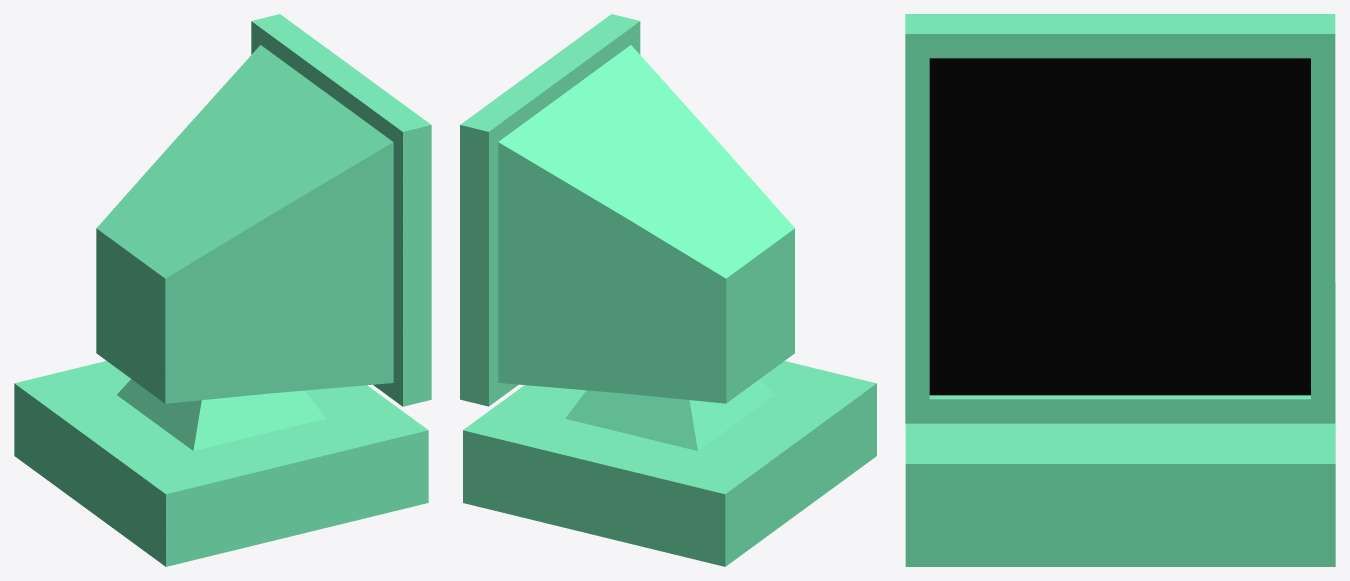
File: Com_Monter.obj
3 renders of one model, left to right at view 1: azimuth 30°, elevation 25°; view 2: azimuth 150°, elevation 25°; view 3: azimuth 270°, elevation 25°, orthographic. The views are drawn at different scales.
Visible parts, largest first — view 1: Com_Montor_Cube.048; view 2: Com_Montor_Cube.048; view 3: Com_Montor_Cube.048.
Part boxes in pixels (x1,y1,x2,y2): Com_Montor_Cube.048: (14,14,431,566); Com_Montor_Cube.048: (460,14,876,566); Com_Montor_Cube.048: (905,14,1335,566).
Size of the model in its own units: 2.02 by 2.75 by 2.
